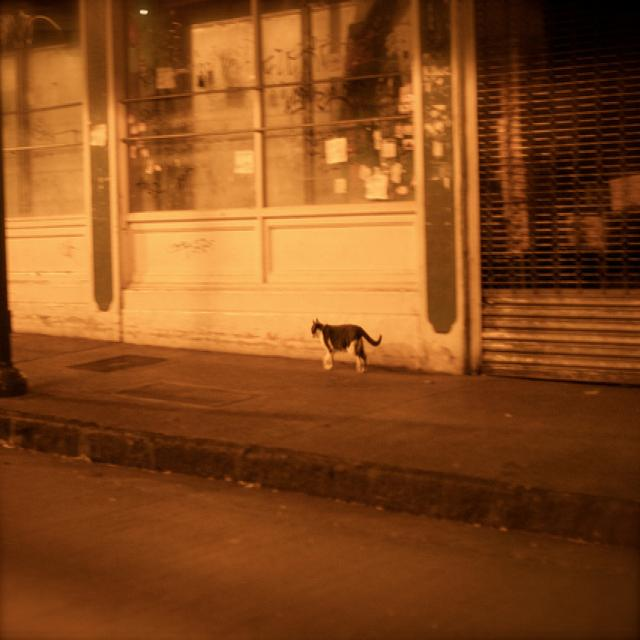Cat: (303, 288, 381, 397)
